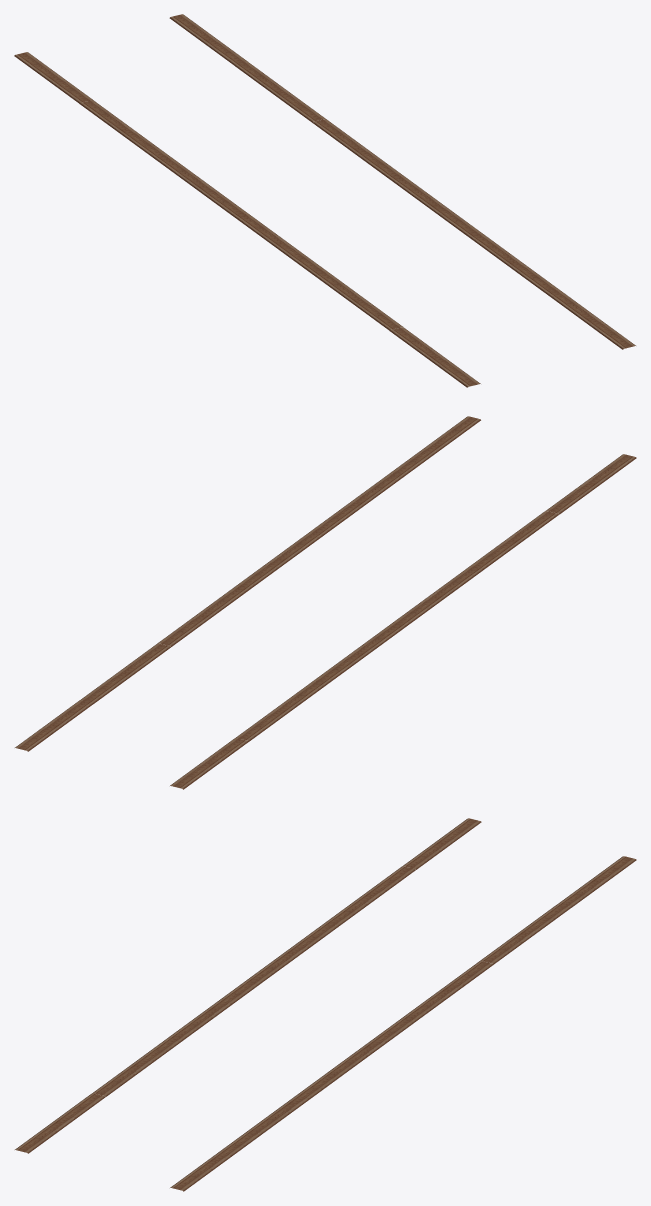
Rendered from Area_09_12.fbx.
The picture shows the model from 3 angles, top to bottom: view 1: azimuth 30°, elevation 25°; view 2: azimuth 150°, elevation 25°; view 3: azimuth 330°, elevation 25°; orthographic projection.
Visible parts, largest first — view 1: Area_09_12; view 2: Area_09_12; view 3: Area_09_12.
Boxes of the visible parts, x1,y1,x2,y2 form: Area_09_12: (14, 14, 635, 387); Area_09_12: (15, 416, 636, 789); Area_09_12: (15, 818, 636, 1191).
Bounding box in the file's own units: 908 × 3.6 × 4202.
